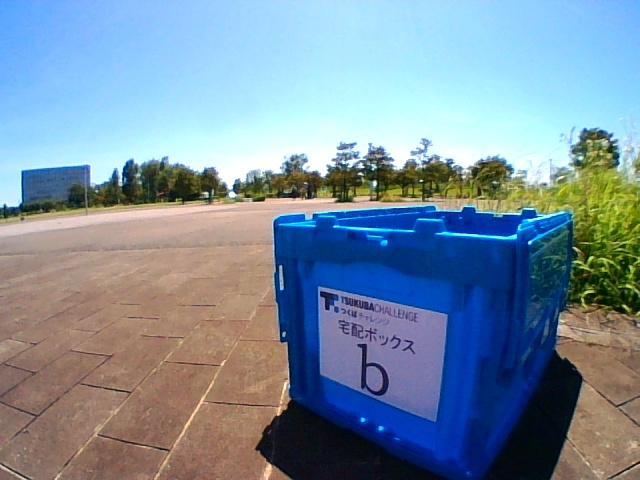blue_box: (273, 207, 572, 404)
tag_b: (351, 326, 419, 396)
